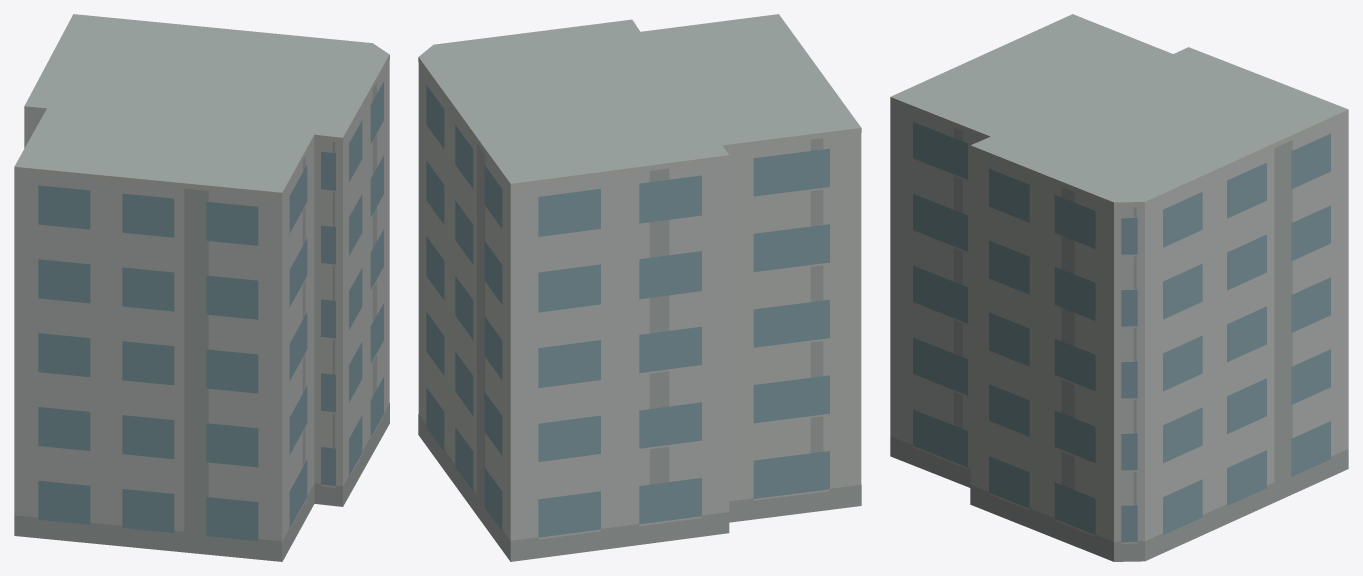
Rendered from survey-upis-32749086.glb.
3 views of the same model, side by side, from view 1: azimuth 30°, elevation 25°; view 2: azimuth 150°, elevation 25°; view 3: azimuth 270°, elevation 25° (orthographic). The views are drawn at different scales.
Visible parts, largest first — view 1: survey-upis-32749086.tmp; view 2: survey-upis-32749086.tmp; view 3: survey-upis-32749086.tmp.
Boxes of the visible parts, <box> form: survey-upis-32749086.tmp: <box>14,14,389,561</box>; survey-upis-32749086.tmp: <box>418,14,861,561</box>; survey-upis-32749086.tmp: <box>890,14,1348,561</box>.
Bounding box in the file's own units: 19.13 × 17 × 19.66.
